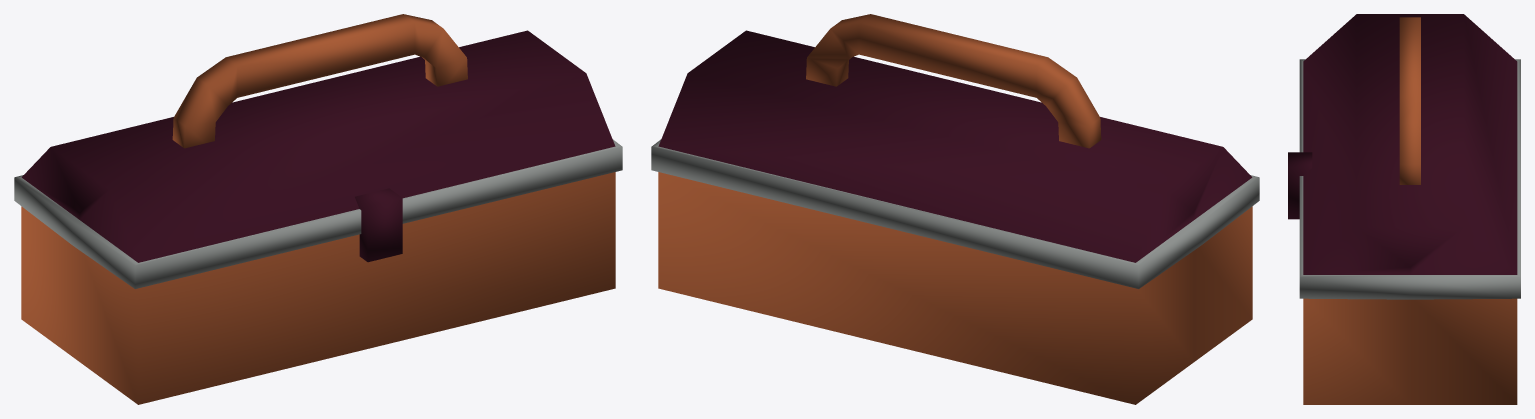
The model's file is Toolbox.fbx.
3 renders of one model, left to right at view 1: azimuth 30°, elevation 25°; view 2: azimuth 150°, elevation 25°; view 3: azimuth 270°, elevation 25°, orthographic. The views are drawn at different scales.
Visible parts, largest first — view 1: Toolbox; view 2: Toolbox; view 3: Toolbox.
Boxes of the visible parts, x1=… form: Toolbox: x1=14, y1=14, x2=622, y2=404; Toolbox: x1=651, y1=14, x2=1259, y2=404; Toolbox: x1=1288, y1=14, x2=1520, y2=404.
Bounding box in the file's own units: 321 × 165 × 144.
